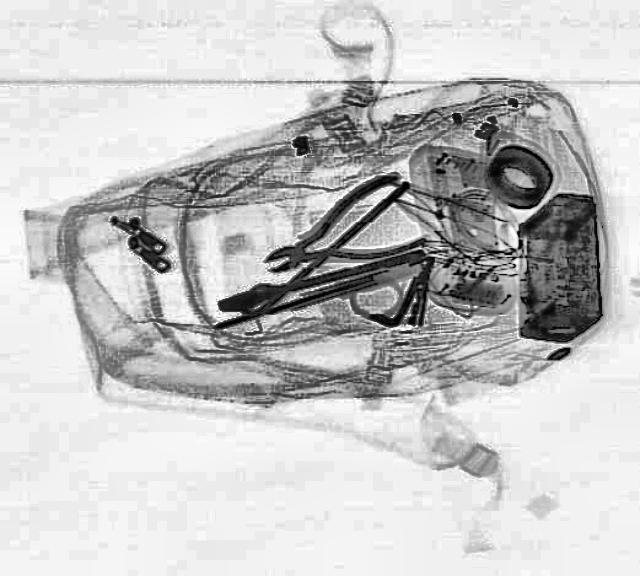Pliers: (244, 170, 434, 300)
